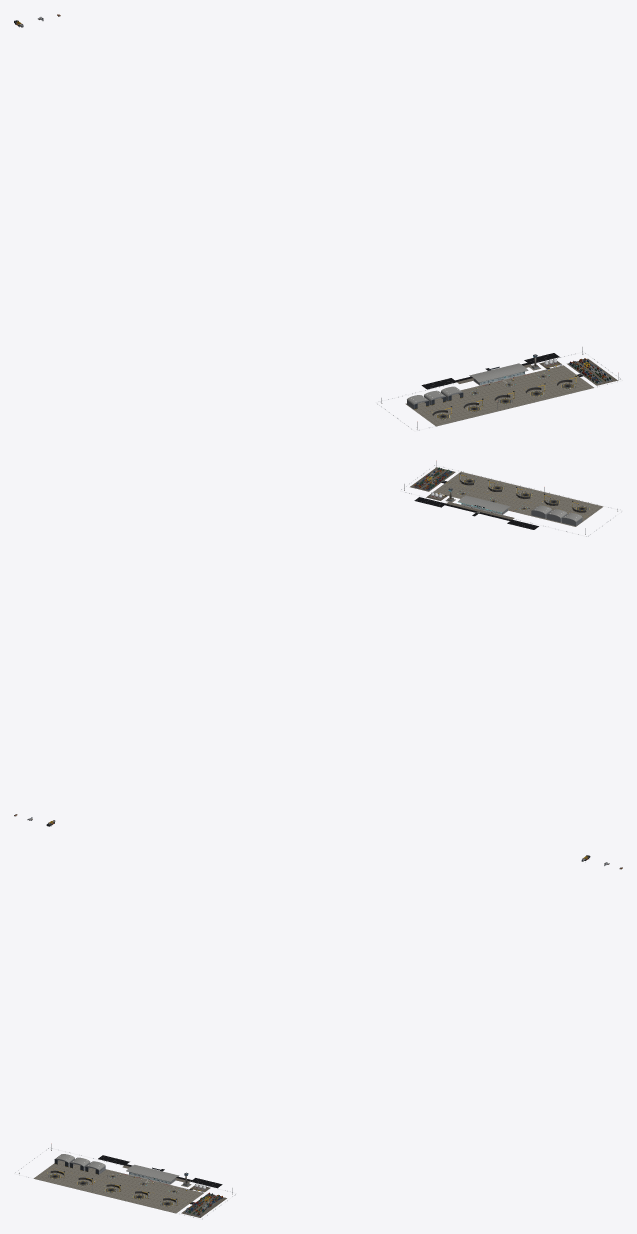
The model's file is spaceport.glb.
3 renders of one model, top to bottom at view 1: azimuth 30°, elevation 25°; view 2: azimuth 150°, elevation 25°; view 3: azimuth 330°, elevation 25°, orthographic. The views are drawn at different scales.
Parts seen in each view (by area): view 1: SP_ground, SP_build, SP_props; view 2: SP_ground, SP_build, SP_props; view 3: SP_ground, SP_build, SP_props.
Boxes of the visible parts, box(x1,y1,x2,y2) form: SP_ground: box(405, 353, 617, 426); SP_build: box(407, 354, 561, 409); SP_props: box(377, 346, 620, 430); SP_ground: box(410, 467, 603, 529); SP_build: box(428, 488, 582, 526); SP_props: box(401, 460, 617, 536); SP_ground: box(33, 1155, 226, 1217); SP_build: box(54, 1154, 208, 1192); SP_props: box(15, 1143, 235, 1219).
Bounding box in the file's own units: 736 × 52.48 × 3174.
Materials: 50 (28 with a texture image).
